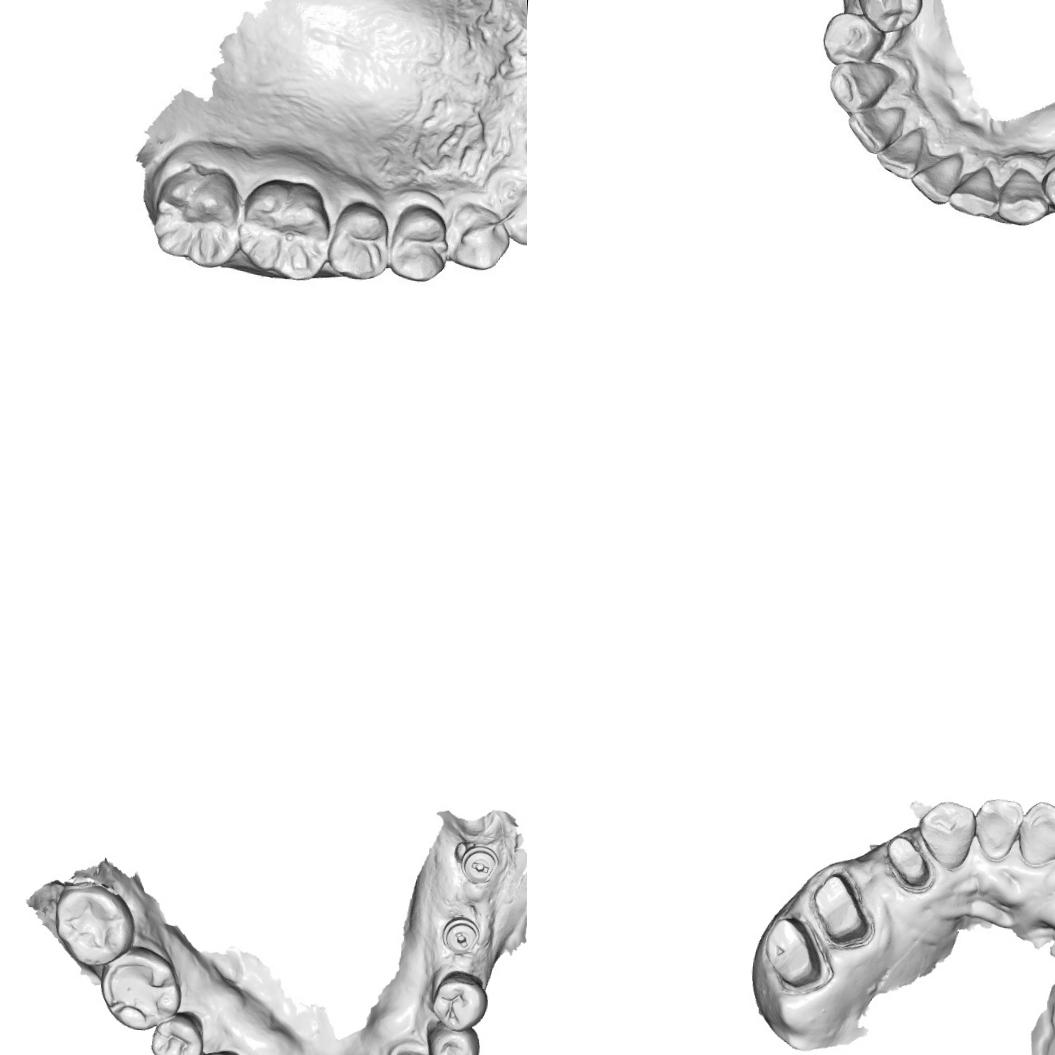canine: (444, 198, 512, 272), (914, 797, 978, 874), (832, 57, 896, 112), (1000, 168, 1054, 224)
crown: (807, 864, 877, 950), (761, 914, 826, 992), (880, 832, 940, 898)
implant_minus: (438, 914, 483, 959), (459, 841, 500, 888)
incisor: (971, 794, 1026, 862), (948, 165, 1004, 219), (1013, 797, 1055, 869), (850, 100, 904, 154), (916, 150, 968, 198), (883, 125, 934, 173), (499, 181, 527, 248)
molar: (234, 174, 335, 282), (149, 160, 244, 270), (95, 942, 185, 1034), (49, 878, 137, 970)
premolar: (323, 198, 391, 281), (386, 200, 450, 286), (428, 973, 492, 1034), (825, 10, 885, 68), (147, 1009, 206, 1055), (861, 0, 919, 32), (423, 1024, 481, 1055)
